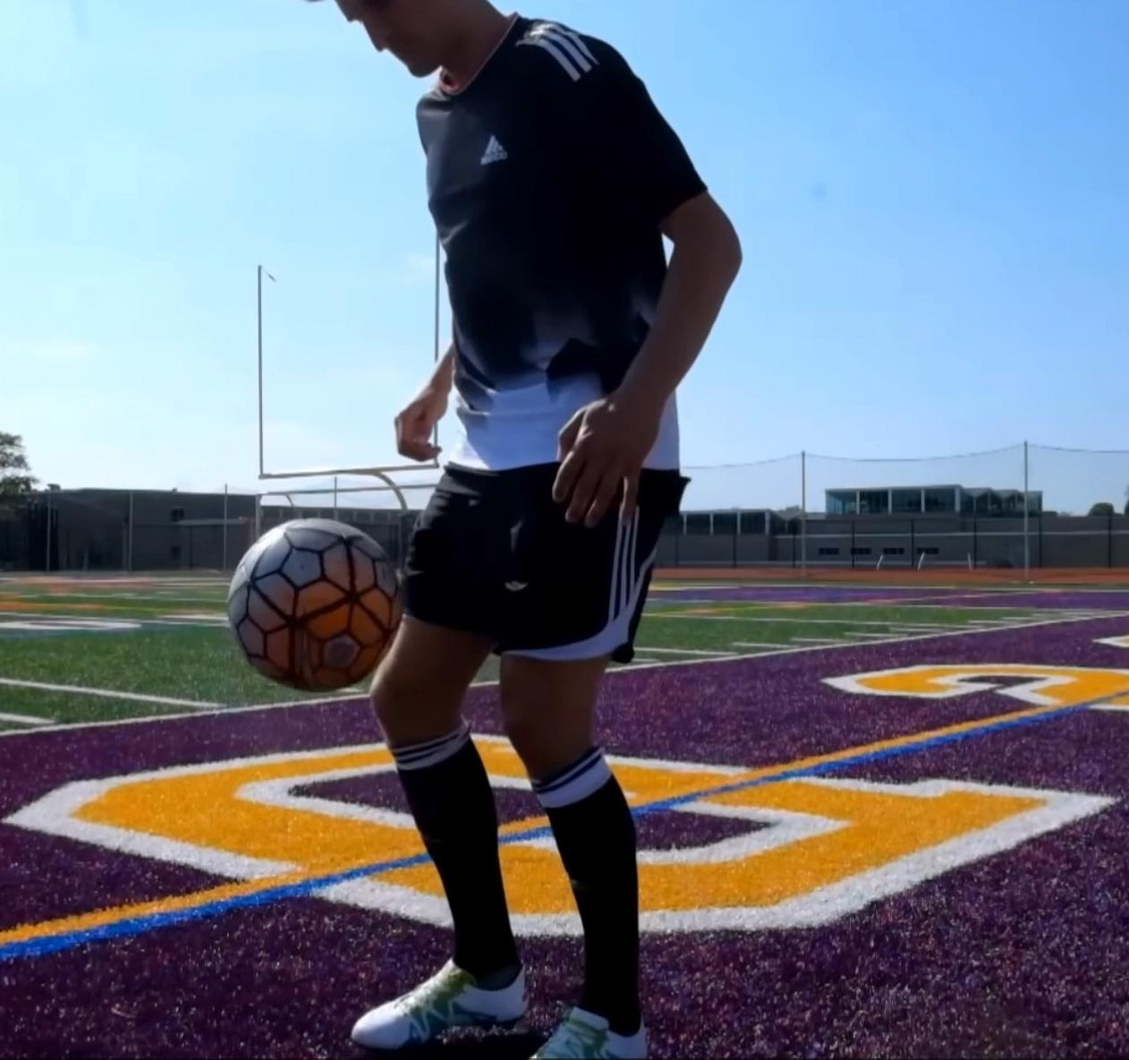ball: (226, 518, 405, 691)
foot: (352, 956, 533, 1052), (520, 1003, 656, 1060)
person: (333, 0, 744, 1060)
